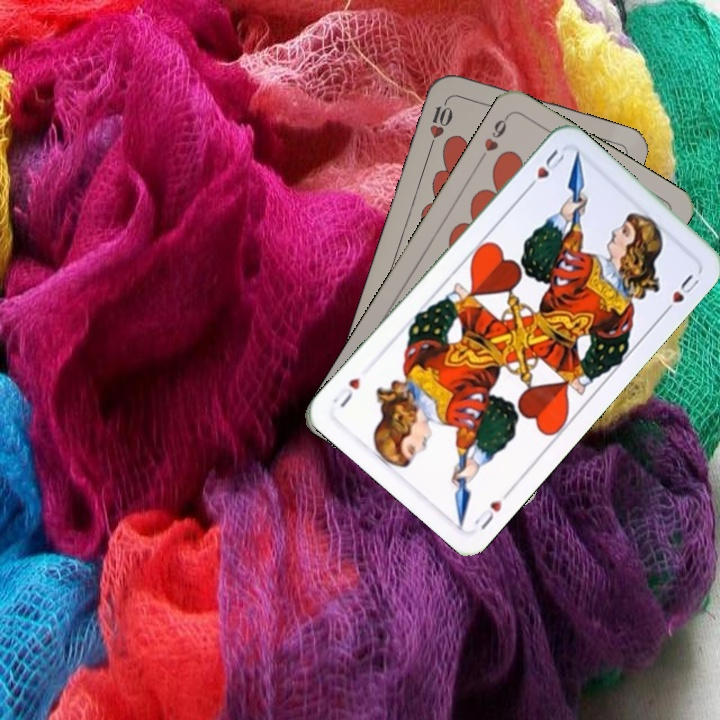H10: (425, 94, 456, 151)
H9: (474, 111, 512, 165)
HU: (521, 145, 568, 194), (470, 495, 505, 533)
